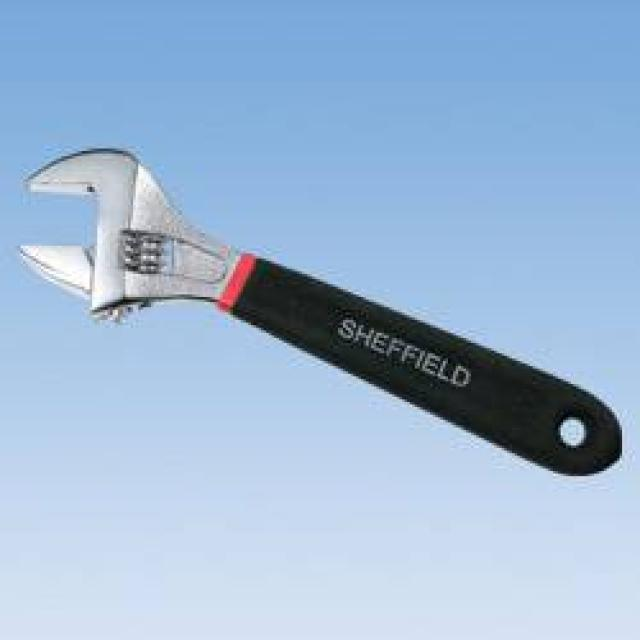wrench: (4, 133, 632, 515)
